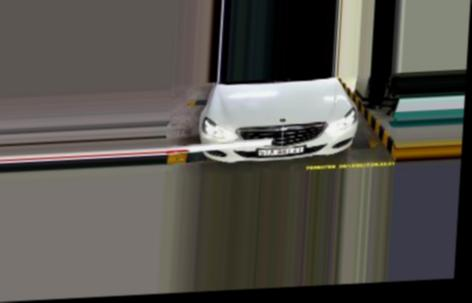License_Plate: (258, 144, 307, 158)
